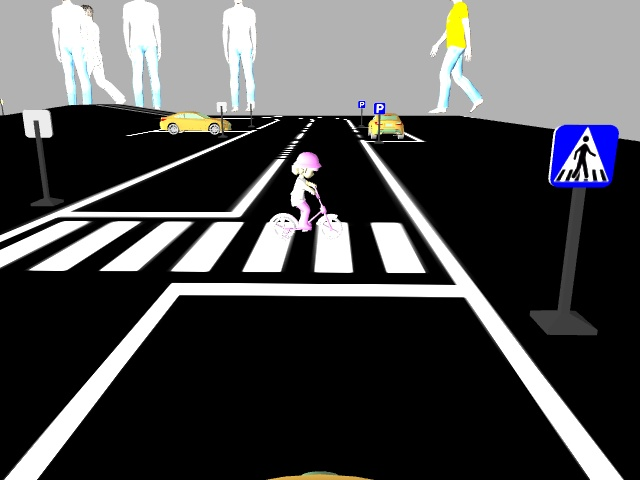Crosswalk: (546, 123, 619, 190)
Parking: (372, 101, 387, 115), (356, 99, 365, 108)
Pedestrian: (264, 148, 348, 243)
